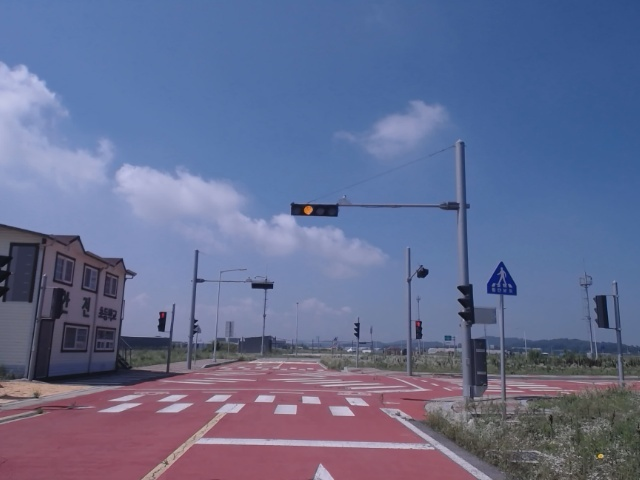orange_4: (290, 203, 339, 216)
